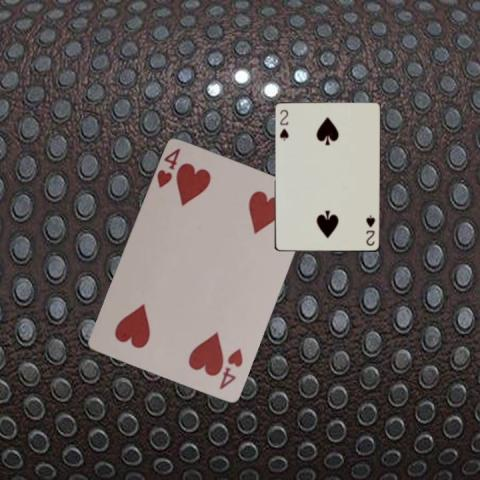2s: (363, 212, 376, 247), (277, 107, 290, 141)
4h: (216, 346, 245, 392), (154, 145, 182, 190)
